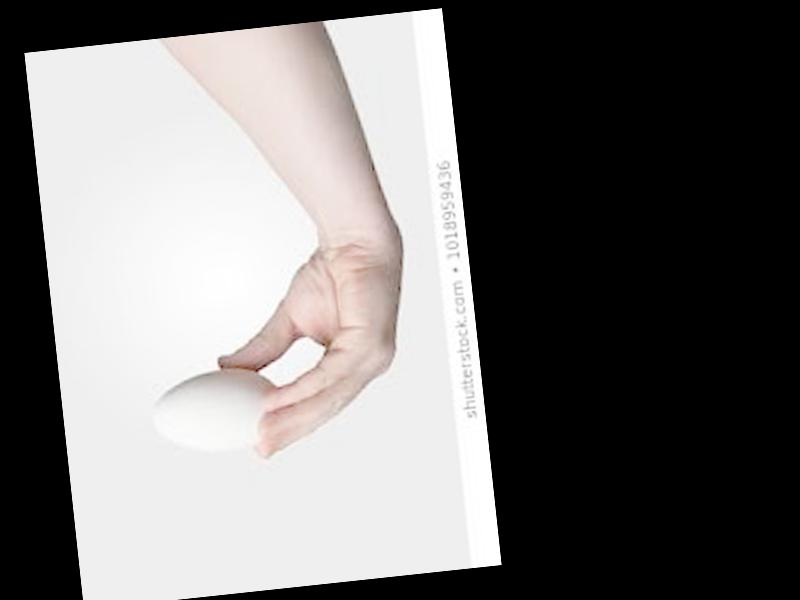Eggs: (146, 363, 284, 461)
